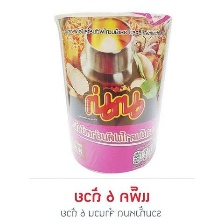paper_cup: (50, 6, 178, 176)
